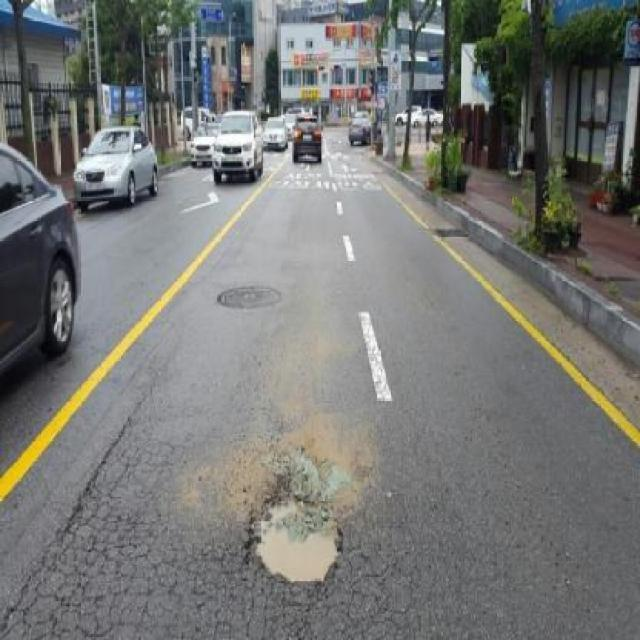Buraco: (239, 472, 347, 590)
